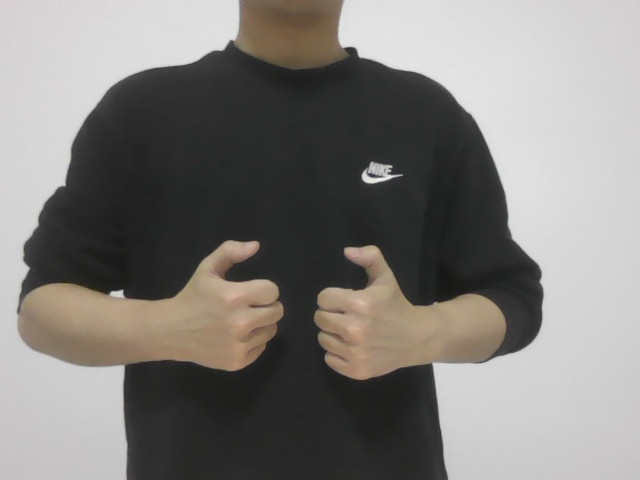marry/wife: (152, 224, 425, 383)
